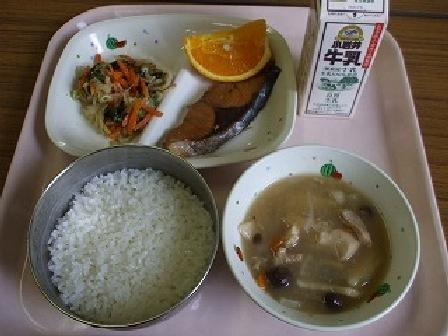Citrus: (176, 18, 275, 80)
Fish: (163, 75, 285, 158)
Milk: (293, 0, 398, 118)
Rice: (29, 154, 221, 330)
Salad: (67, 48, 168, 142)
Soups: (239, 148, 401, 319)
